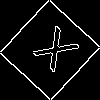X: (25, 25, 80, 81)
